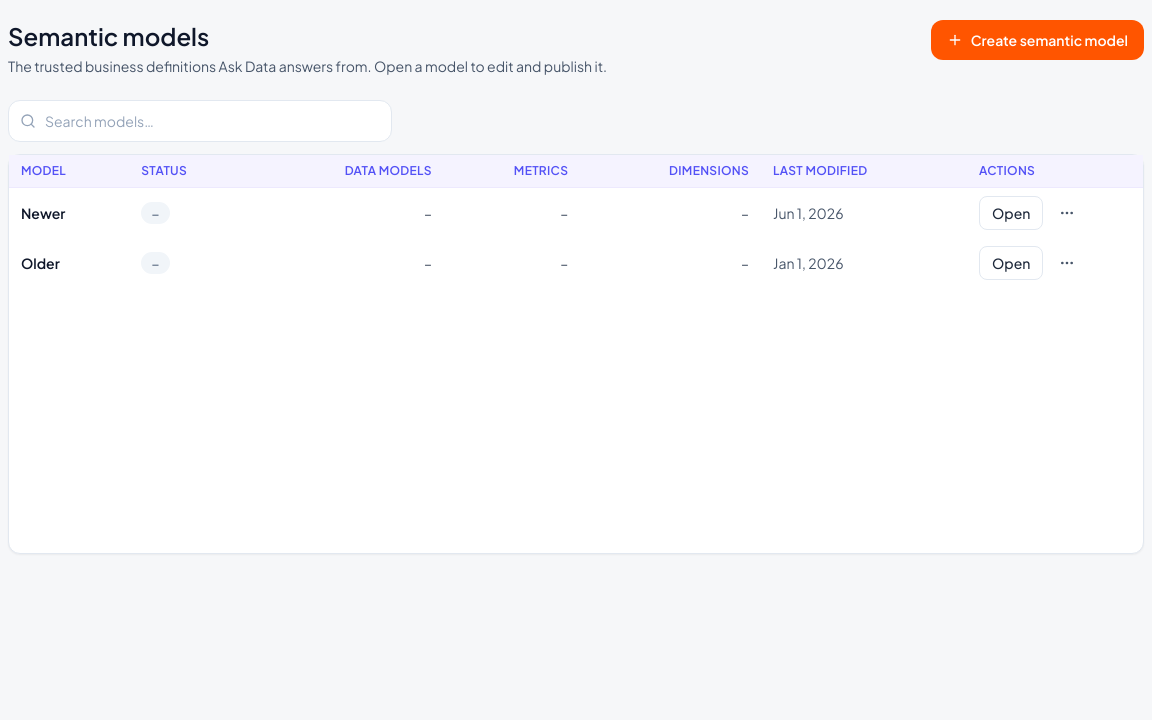
Test: table layout › closes the menu when you click elsewhere, and lists the newest model first
Check: the button "Newer" is shown, box [21,203,65,223]
Click the button named "More actions for Newer": (1067, 213) [1051,197,1083,229]
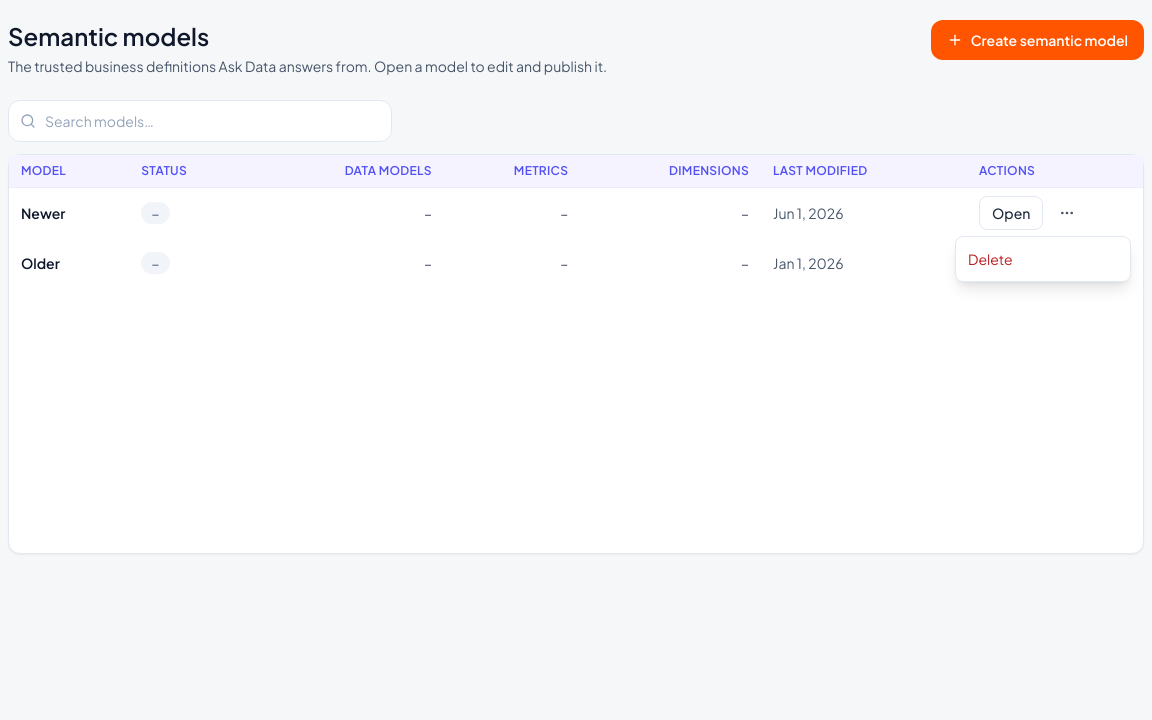
Check: the menu is shown, box [955,236,1131,282]
Press the mouse on the element that starts with "Semantic models": (576, 360) [0,0,1151,719]
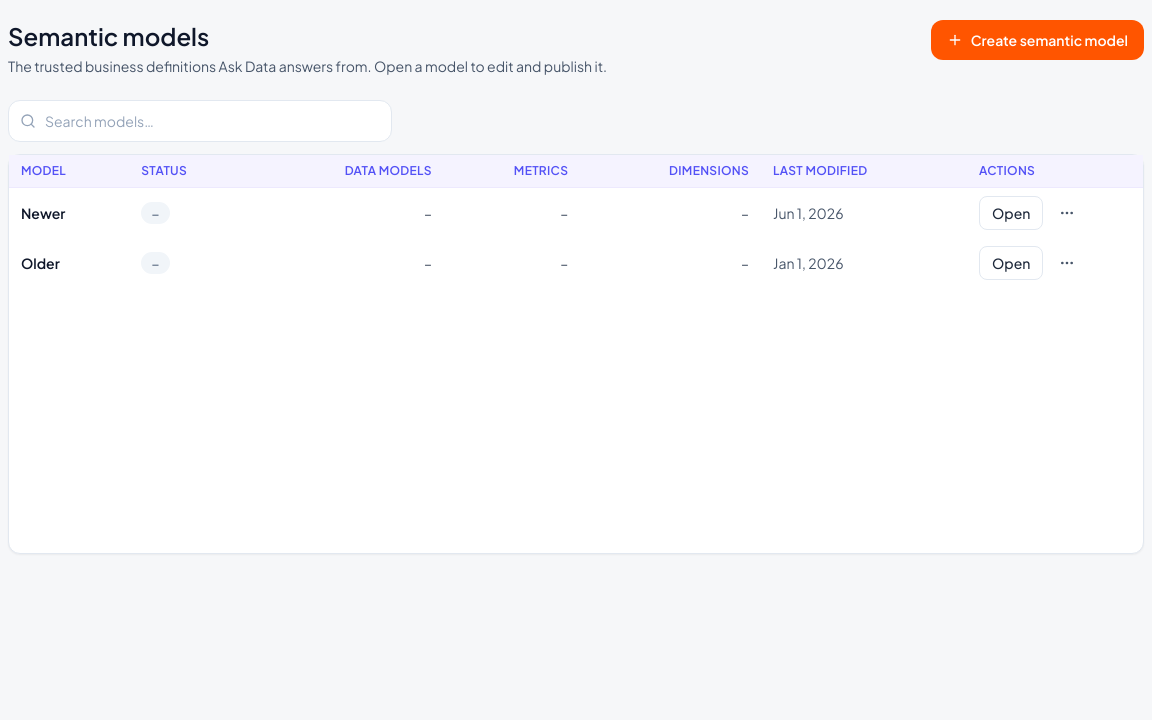
Check: the menu is gone
